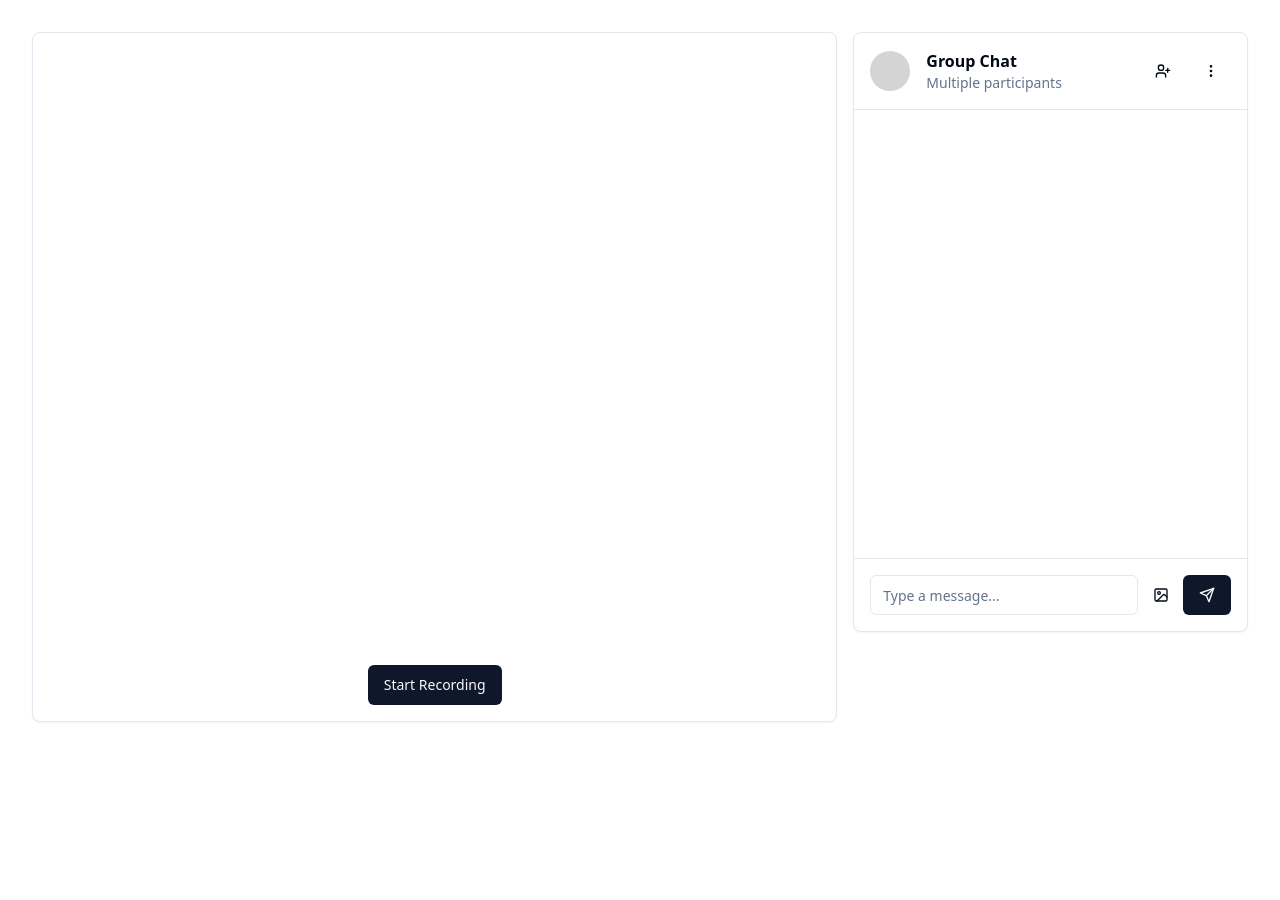
Scenario: MeetingRoom › handles recording toggle
Click the button "Start Recording" at [435, 685], box left=368, top=665, right=502, bottom=705
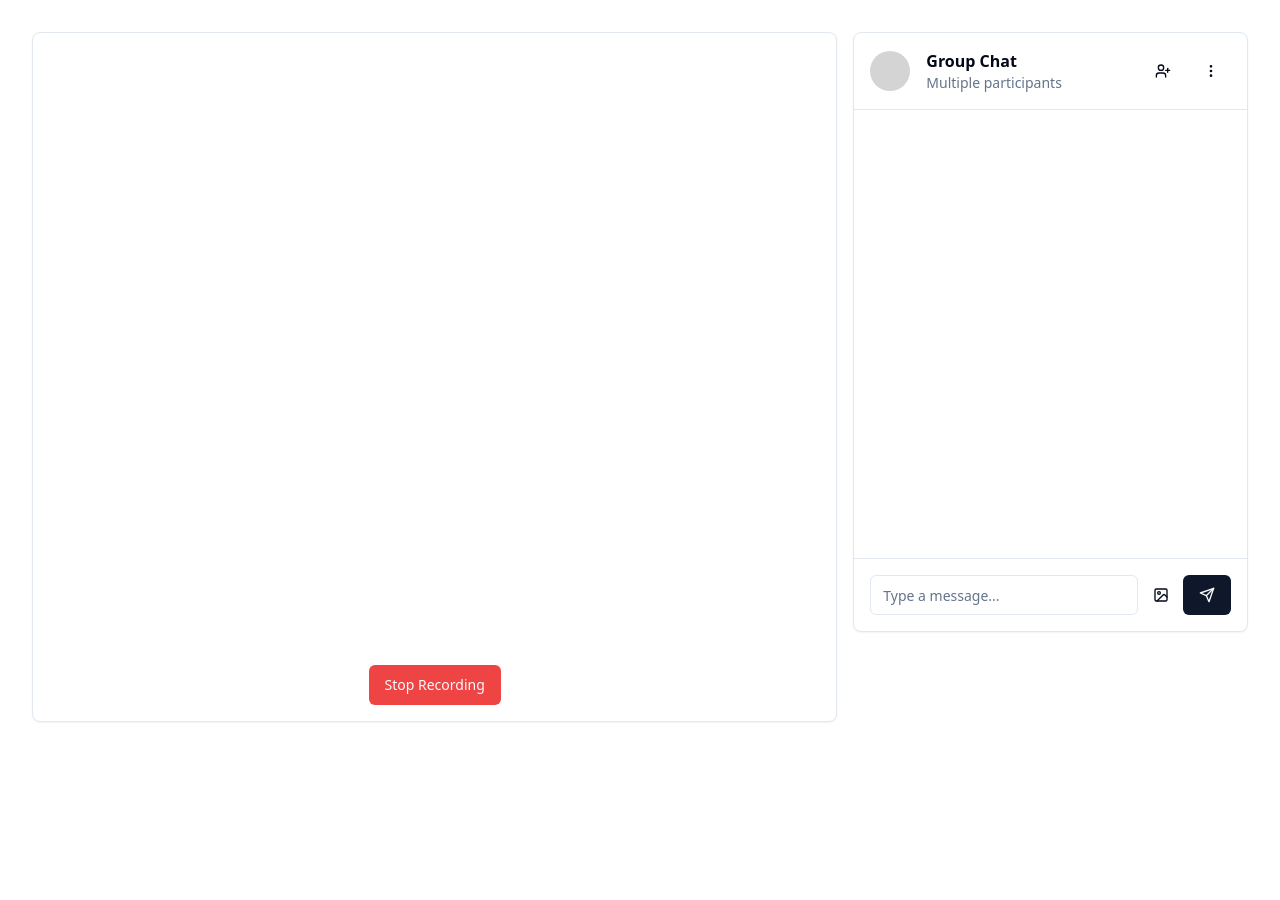
Expected: the button "Stop Recording" is shown
Click the button "Stop Recording" at [435, 685], box left=368, top=665, right=501, bottom=705
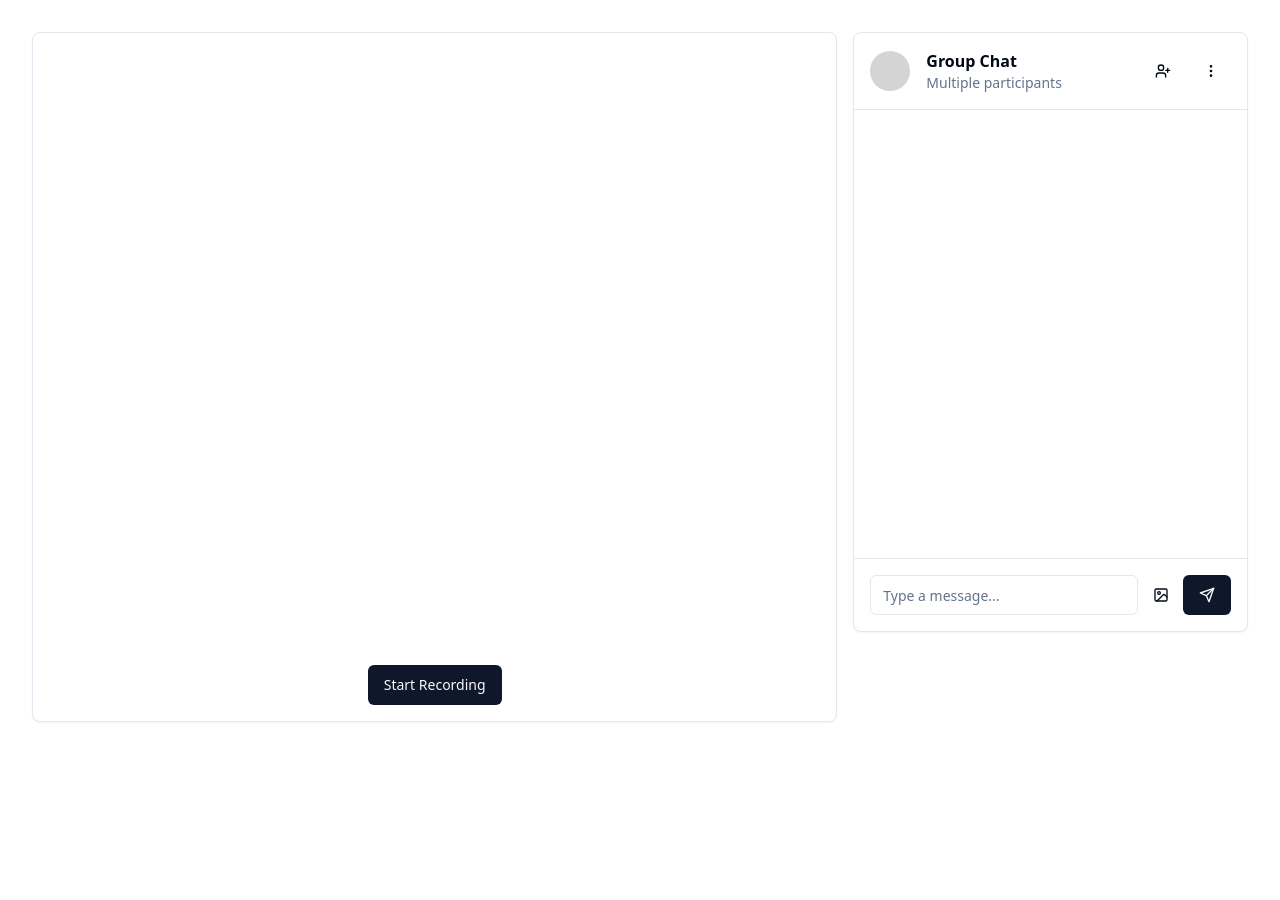
Expected: the button "Start Recording" is shown, left=368, top=665, right=502, bottom=705
